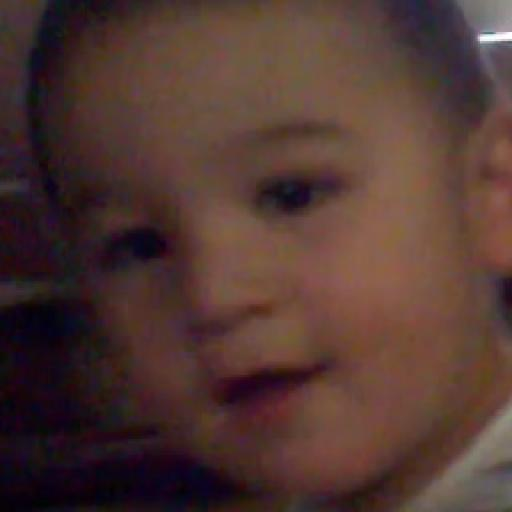Autism: (39, 2, 512, 512)
